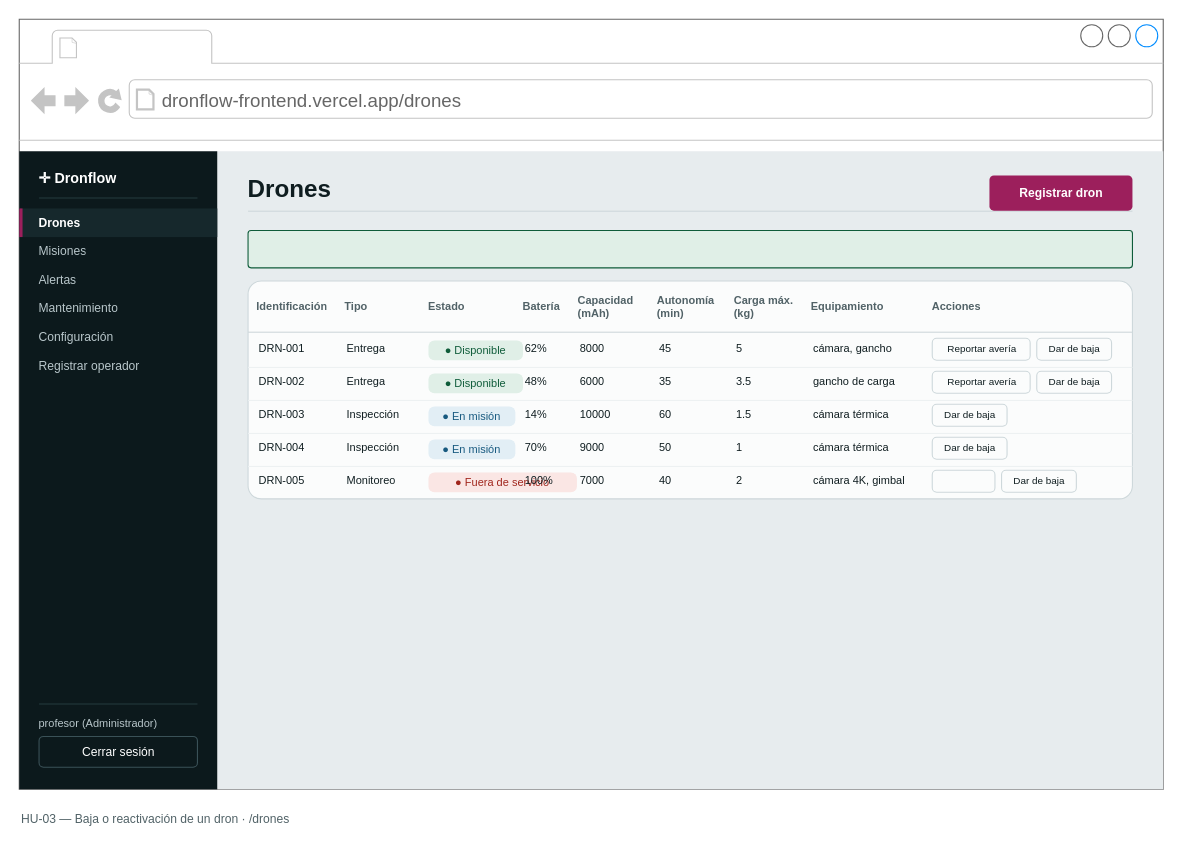
The diagram is 1183 pixels wide and 868 high, and some of its shapes have lost their labels. Each missing label, with the centre of its shape:
"Dron DRN-005: Disponible." goes at pixel 689 248.
"Reactivar" goes at pixel 963 480.
